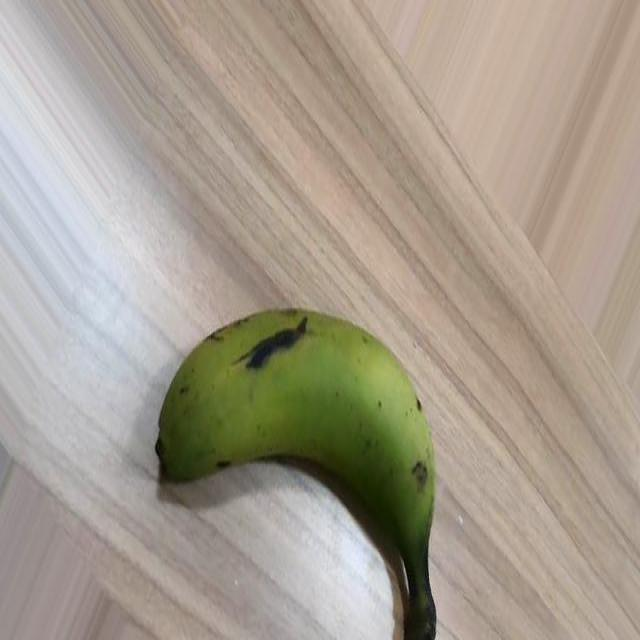Unripe: (155, 303, 439, 640)
